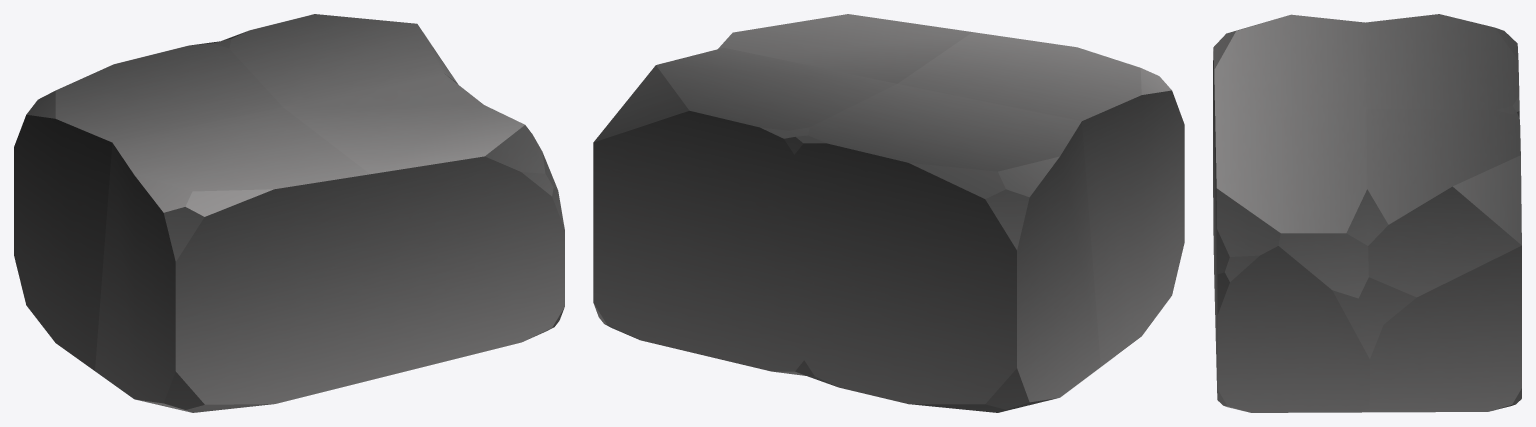
Rendered from Rock.fbx.
3 renders of one model, left to right at view 1: azimuth 30°, elevation 25°; view 2: azimuth 150°, elevation 25°; view 3: azimuth 270°, elevation 25°, orthographic. The views are drawn at different scales.
Visible parts, largest first — view 1: Cube.094; view 2: Cube.094; view 3: Cube.094.
Boxes of the visible parts, x1,y1,x2,y2 form: Cube.094: [14, 14, 564, 412]; Cube.094: [593, 14, 1184, 412]; Cube.094: [1213, 14, 1521, 412].
Bounding box in the file's own units: 204 × 110 × 143.
Materials: 1 (1 with a texture image).
